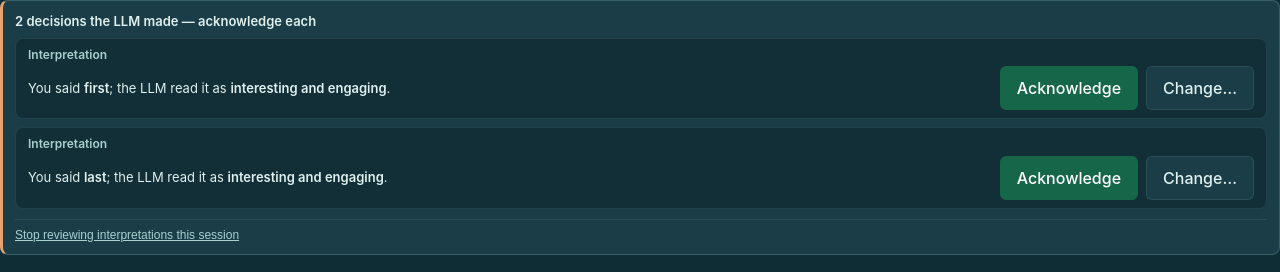
Test: AcknowledgementStack — focus restoration › wraps focus to the first remaining row when the last row resolves
Click the button with aria-label "acknowledge the llm's interpretation of last". click: (1069, 178)
box: left=1000, top=156, right=1138, bottom=200
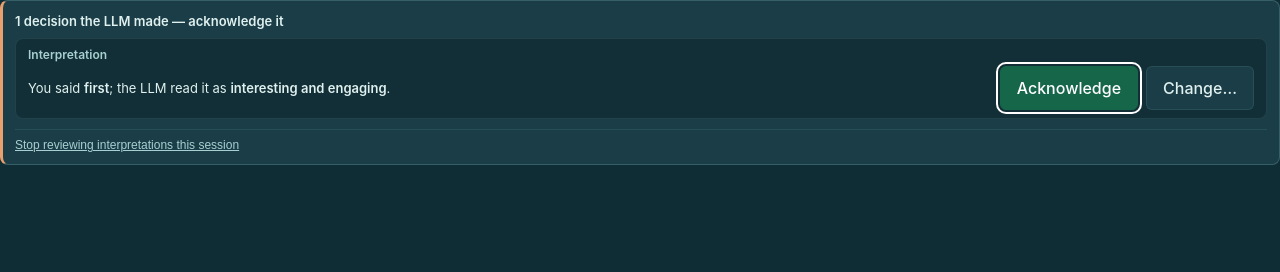
Expected: the number of elements with test id "acknowledgement-card" is 1, left=15, top=38, right=1267, bottom=120
